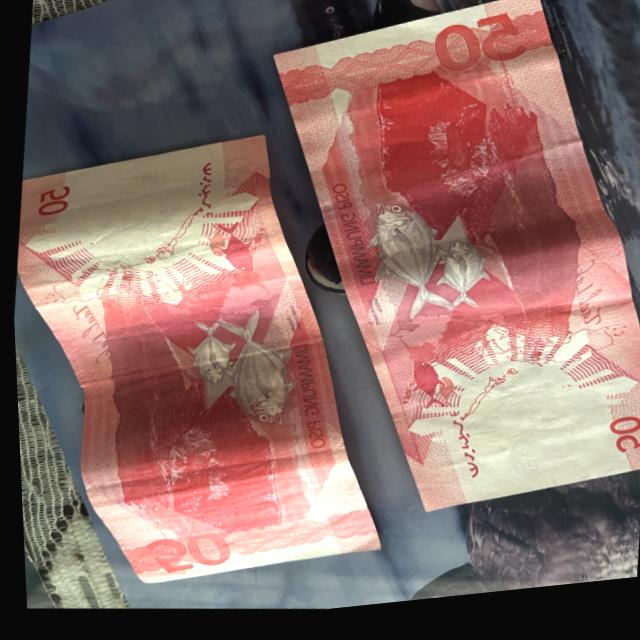50_maliputo: (348, 200, 494, 343), (163, 302, 302, 444)
50_maliputo_watermark: (188, 214, 260, 283), (396, 358, 464, 431)
value_watermark: (497, 456, 545, 491)
watermark: (463, 386, 597, 502)
